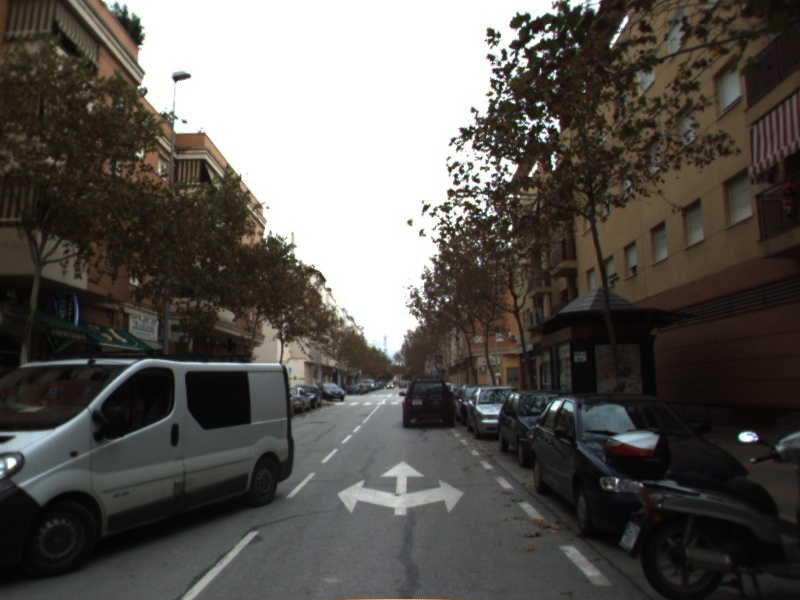STRAIGHT_LEFT_RIGHT: (335, 459, 467, 517)
